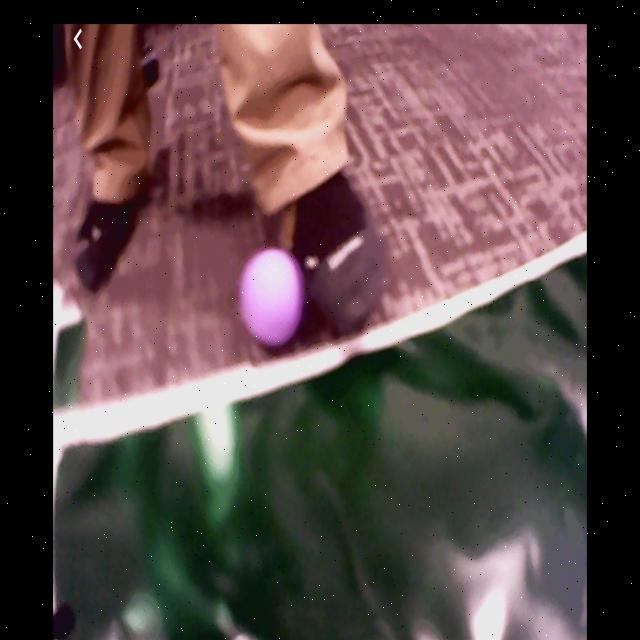ball: (241, 250, 304, 345)
